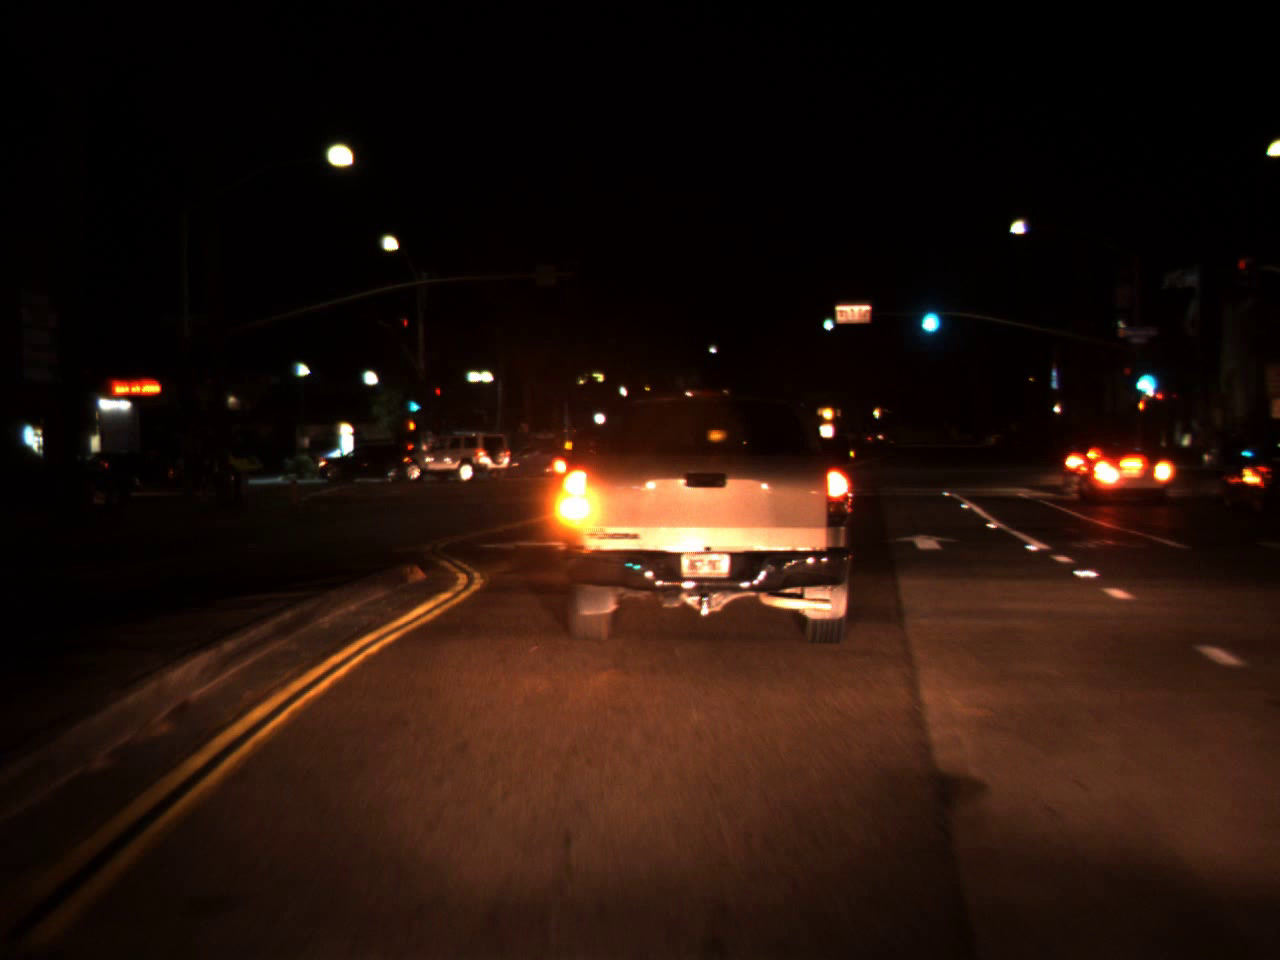go: (915, 288, 942, 339), (1132, 356, 1157, 398), (404, 382, 425, 418), (819, 306, 835, 333)
